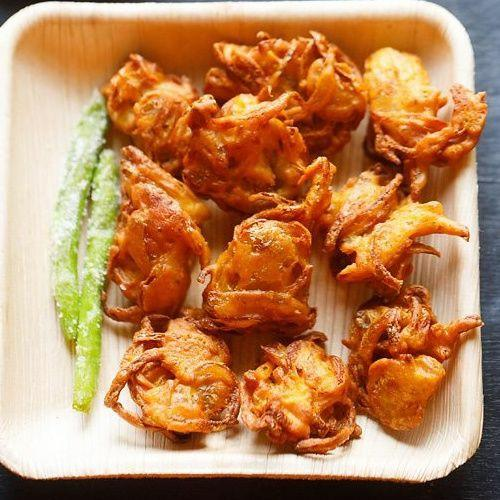OnionPakoda: (93, 21, 483, 450)
